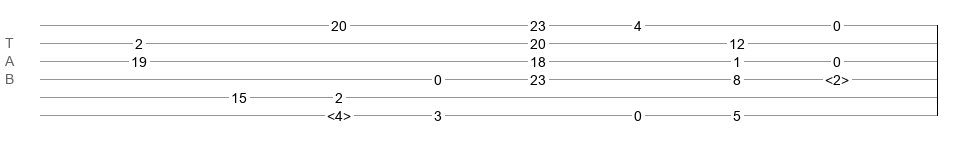0: (434, 72, 442, 82), (634, 108, 642, 118), (833, 18, 841, 28), (833, 54, 841, 64)
1: (733, 54, 741, 64)
12: (729, 36, 745, 46)
15: (231, 90, 247, 100)
18: (530, 54, 546, 64)
19: (131, 54, 147, 64)
2: (135, 36, 143, 46), (335, 90, 343, 100)
20: (331, 18, 347, 28), (530, 36, 546, 46)
23: (530, 72, 546, 82), (530, 18, 546, 28)
3: (434, 108, 442, 118)
4: (634, 18, 642, 28)
5: (733, 108, 741, 118)
8: (733, 72, 741, 82)
harmonic: (327, 108, 351, 118), (825, 72, 849, 82)
